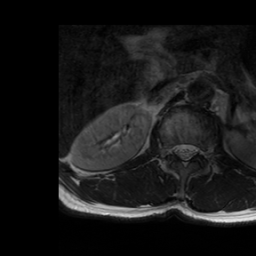CCS_normal: (181, 137, 188, 171)
LFS_stenosis: (199, 140, 208, 163)
LLS_normal: (189, 138, 198, 162)
RFS_normal: (165, 138, 172, 161)
RLS_normal: (172, 138, 181, 160)
